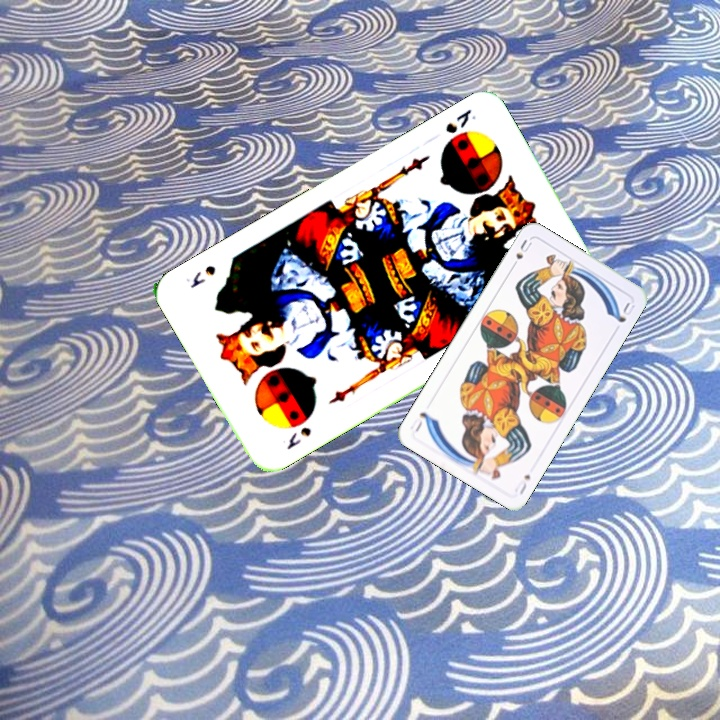SK: (441, 104, 479, 136), (282, 422, 314, 452)
SU: (507, 235, 535, 272), (510, 470, 533, 498)
